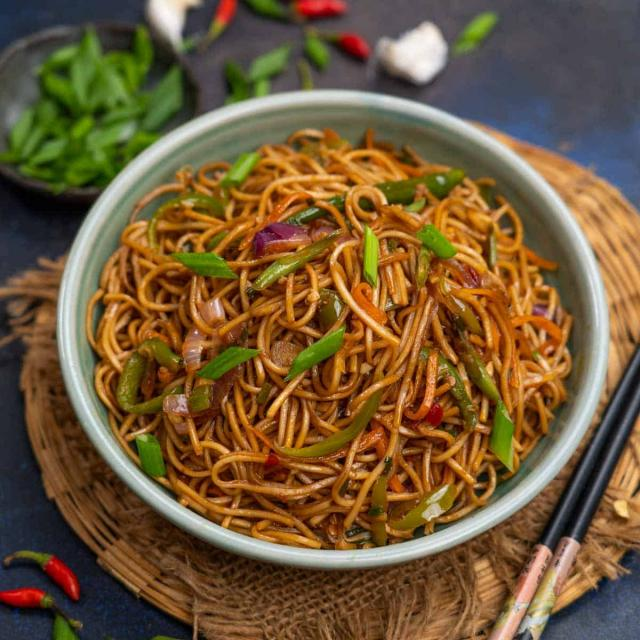Noodle: (92, 125, 572, 548)
